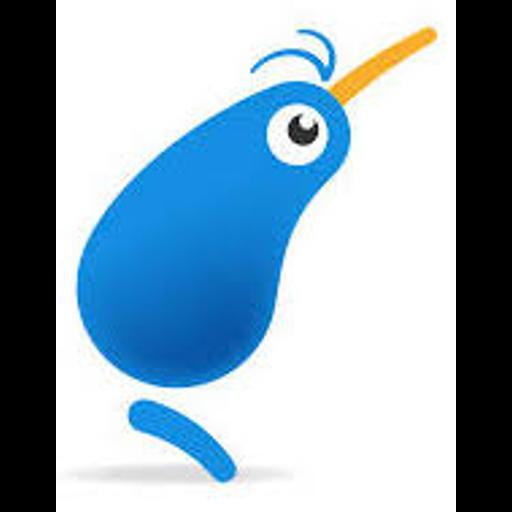Trade Me NZ: (56, 0, 456, 512)
